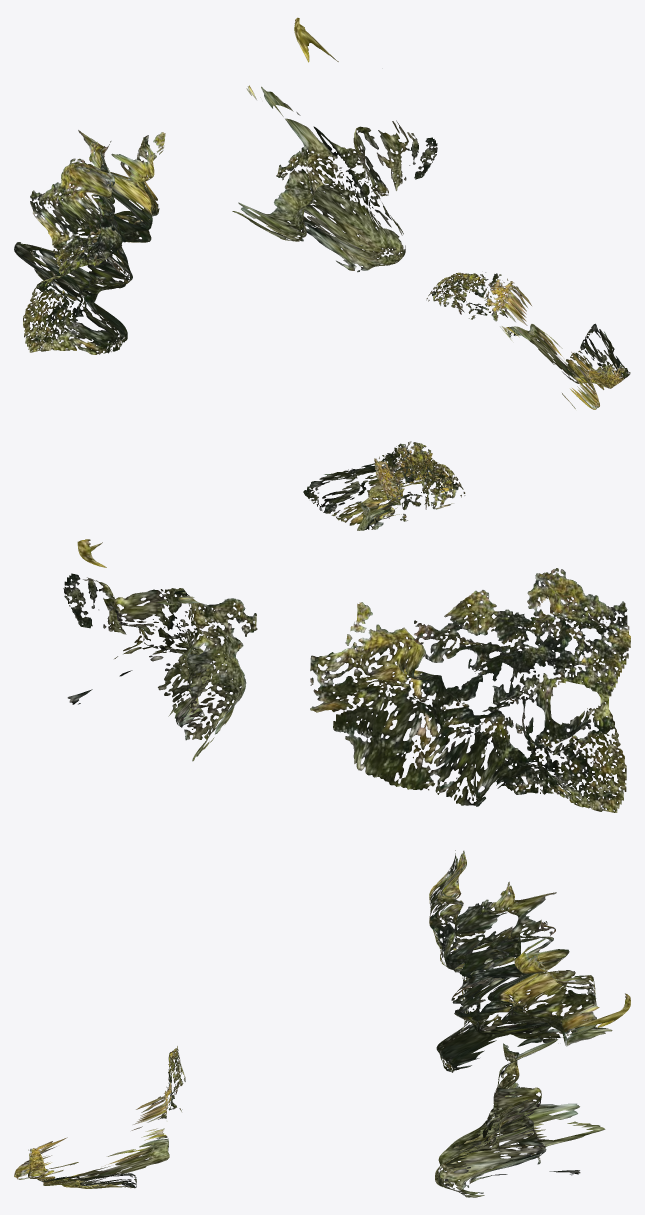
File: appearance-01.glb
3 views of the same model, one above another, from view 1: azimuth 30°, elevation 25°; view 2: azimuth 150°, elevation 25°; view 3: azimuth 270°, elevation 25° (orthographic). The views are drawn at different scales.
Visible parts, largest first — view 1: left, middle, foreground; view 2: left, middle, foreground; view 3: left, middle, foreground.
Part boxes in pixels (x1,y1,x2,y2): left: [14, 130, 165, 354]; middle: [232, 17, 437, 272]; foreground: [426, 272, 630, 409]; left: [310, 568, 630, 812]; middle: [63, 539, 257, 761]; foreground: [303, 441, 465, 530]; left: [429, 850, 612, 1072]; middle: [435, 993, 630, 1197]; foreground: [14, 1046, 185, 1188].
Size of the model in its own units: 14.68 by 6.78 by 17.5.
3 materials, 3 textured.
